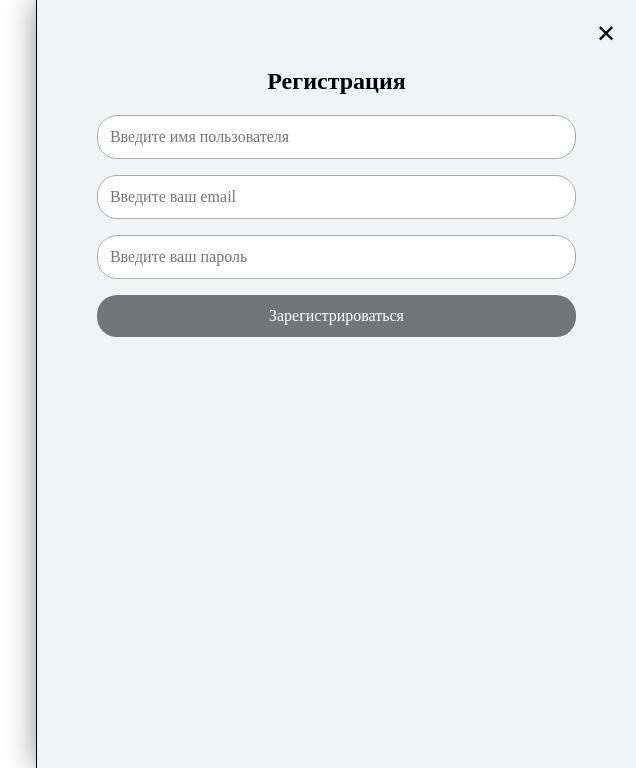
RegisterModal › shows validation error for short password
This screenshot has width=636, height=768.
In the field with placeholder "Введите имя пользователя": (336, 137) [97,115,576,159], type "testuser"
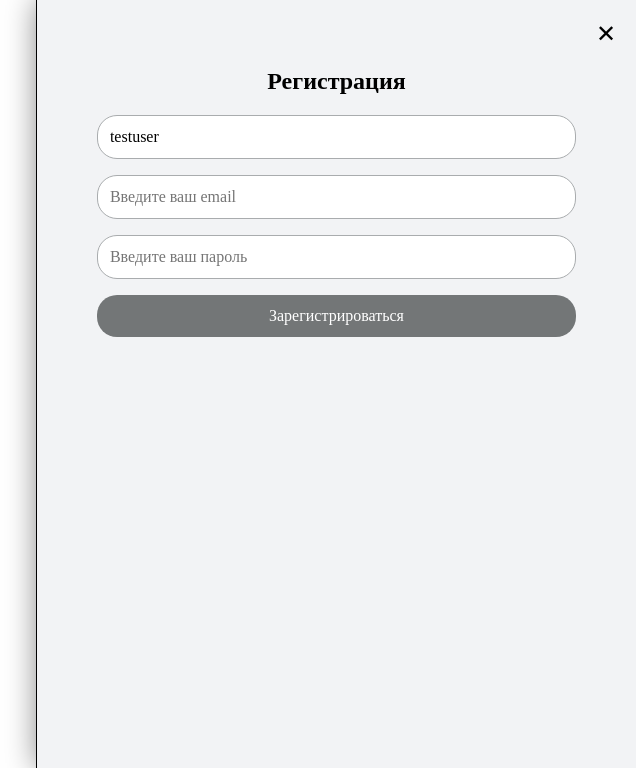
In the field with placeholder "Введите ваш email": (336, 197) [97,175,576,219], type "test@example.com"
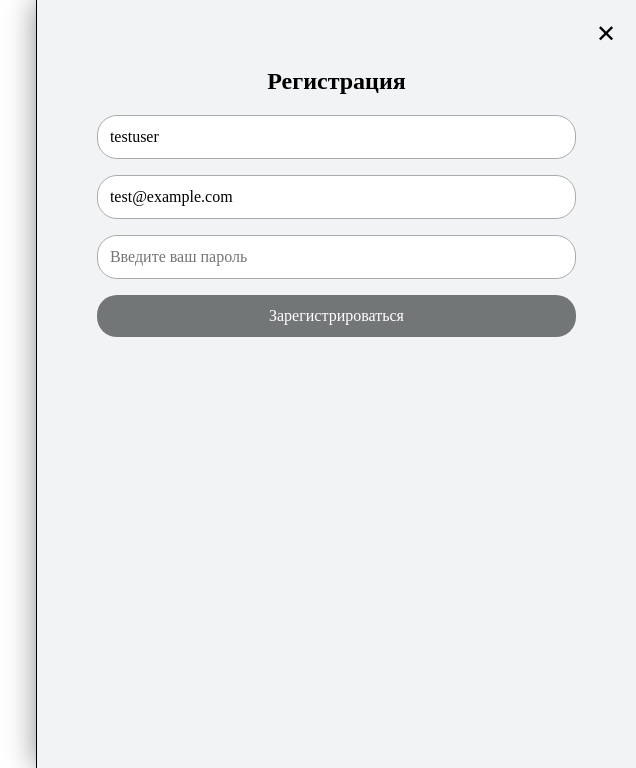
In the password field with placeholder "Введите ваш пароль": (336, 257) [97,235,576,279], type "12345"
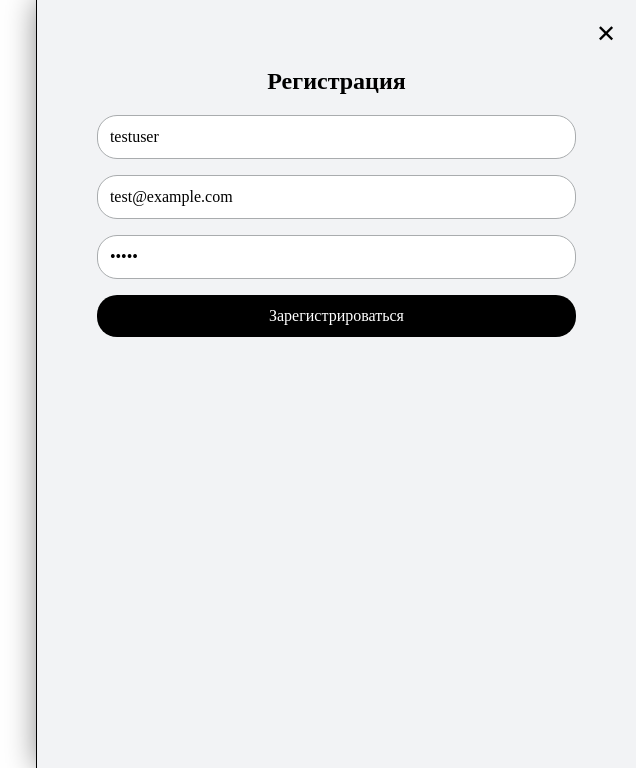
Click the button "Зарегистрироваться": (336, 316) [97,295,576,337]
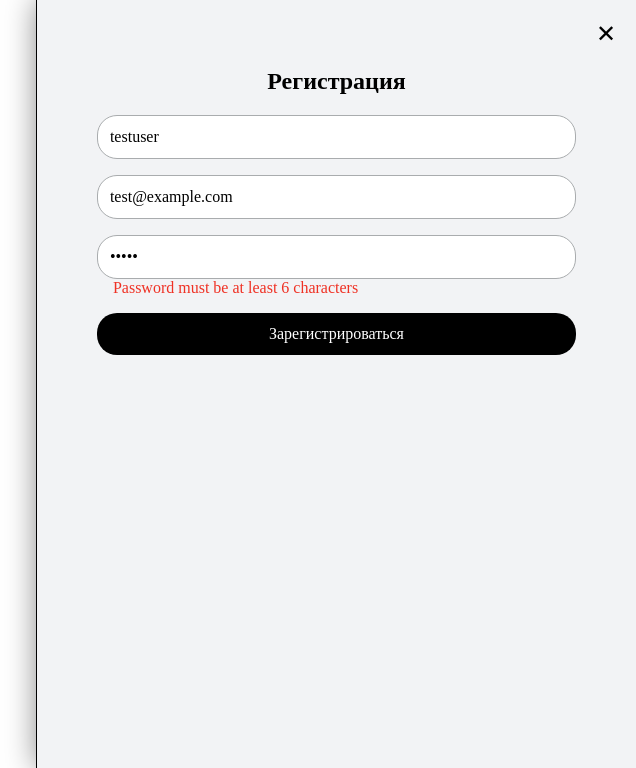
Now the text "Password must be at least 6 characters" is shown, box [113,279,358,296]
